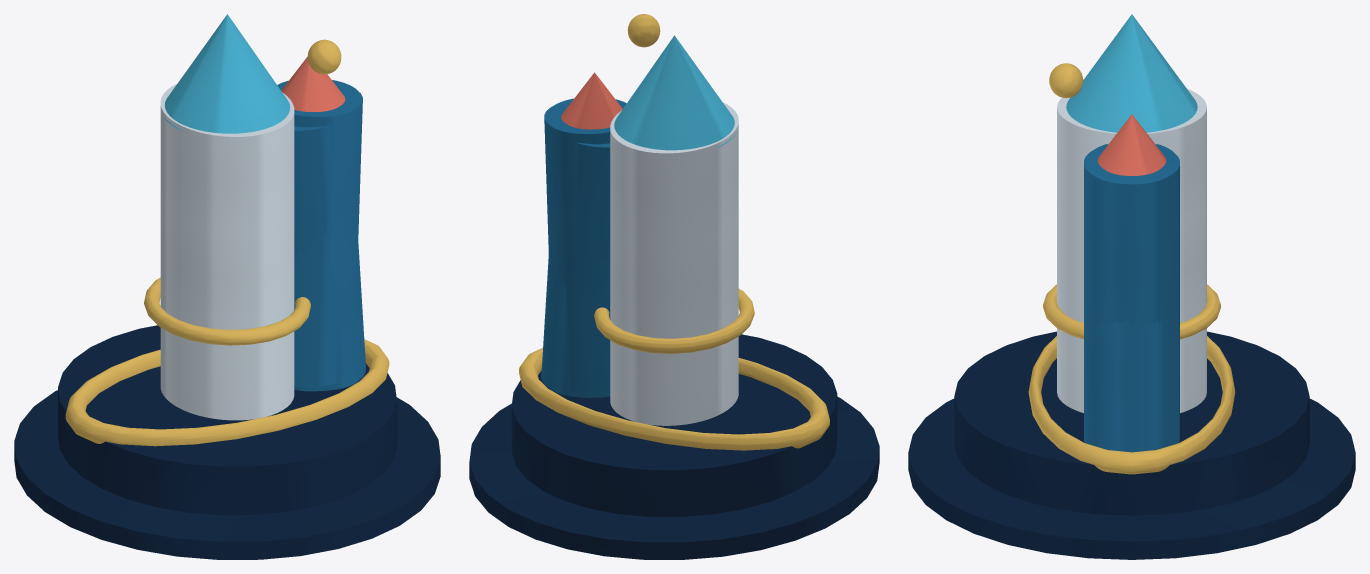
Rendered from 0962_农业科技图鉴_耕海一号.glb.
3 renders of one model, left to right at view 1: azimuth 30°, elevation 25°; view 2: azimuth 150°, elevation 25°; view 3: azimuth 270°, elevation 25°, orthographic. The views are drawn at different scales.
Visible parts, largest first — view 1: card_0962; view 2: card_0962; view 3: card_0962.
Boxes of the visible parts, x1,y1,x2,y2 form: card_0962: (14, 14, 440, 559); card_0962: (469, 14, 879, 559); card_0962: (908, 14, 1355, 559).
Bounding box in the file's own units: 0.8412 × 1 × 0.8877.
